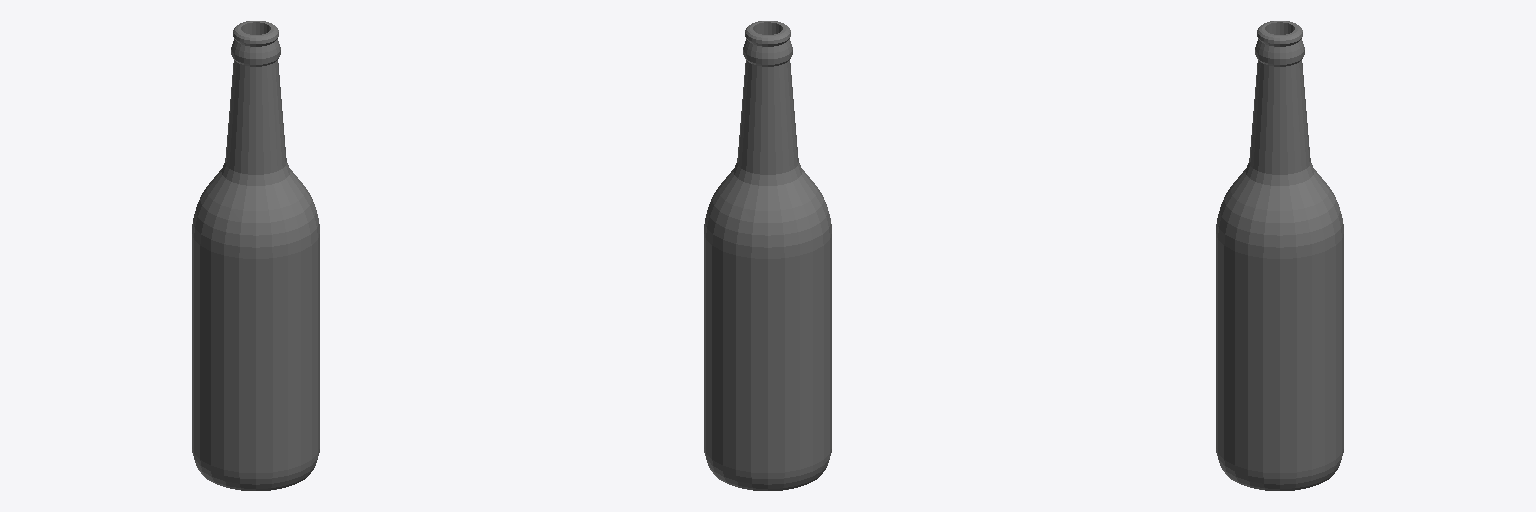
URDF robot description (object):
<?xml version="1.0"?>
<robot name="object">
  <link name="object">
    <visual>
      <origin xyz="0 0 0"/>
      <geometry>
        <mesh
          filename="../../mesh/oakink_virtual/cylinder_bottle_s158.stl" />
      </geometry>
      <material name="mat">
        <color rgba="0.5 0.5 0.5 1"/>
      </material>
    </visual>

    <collision>
      <origin xyz="0 0 0"/>
      <geometry>
        <mesh
          filename="../../mesh/oakink_virtual/cylinder_bottle_s158.stl" />
      </geometry>
    </collision>
  </link>
</robot>

--- Facts derived from the render (not from the file) ---
3 views of the same robot in one strip: view 1: azimuth 30°, elevation 25°; view 2: azimuth 150°, elevation 25°; view 3: azimuth 270°, elevation 25° (orthographic).
Model object with 1 links and 0 joints (none), rooted at object, posed every joint at zero.
Links seen in each view (by area): view 1: object; view 2: object; view 3: object.
Link boxes in pixels (box(x1,y1,x2,y2)): object: box(192, 21, 319, 490); object: box(704, 21, 831, 490); object: box(1216, 21, 1343, 490).
Bounding box of the posed robot: 0.0696 × 0.0696 × 0.2637 m (x, y, z).
Meshes: 1 distinct files referenced, 1 mesh visuals loaded (1 binary STL).